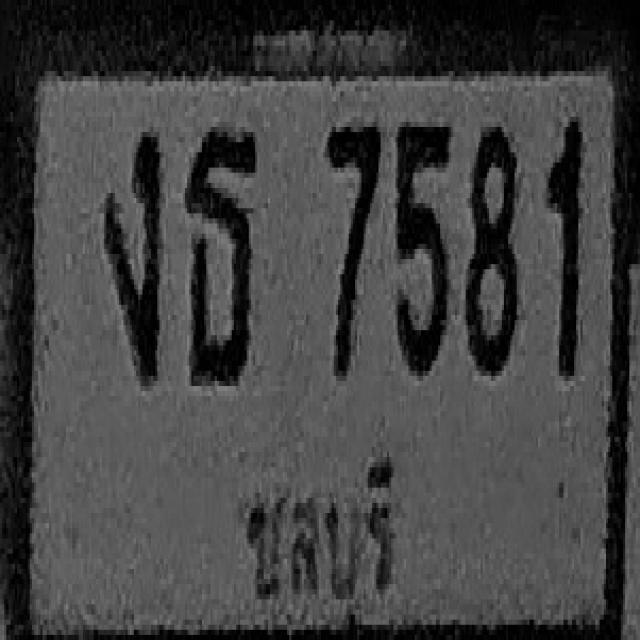1: (546, 117, 582, 376)
16NgorNgu: (103, 127, 161, 381)
33ThorThong: (186, 124, 256, 383)
5: (395, 120, 451, 373)
7: (325, 122, 381, 376)
8: (466, 124, 516, 373)
Chonburi: (236, 442, 412, 631)
